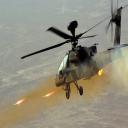helicopter: (20, 1, 128, 100)
